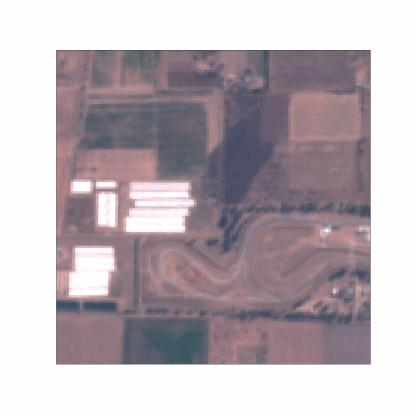silobolsa: (128, 178, 192, 192), (126, 199, 197, 208), (123, 226, 189, 235), (129, 189, 193, 198), (126, 207, 190, 216), (109, 190, 122, 229), (124, 216, 189, 223), (67, 177, 93, 194), (75, 261, 118, 271), (69, 270, 110, 280), (96, 191, 107, 226), (66, 280, 110, 288), (67, 290, 111, 298), (74, 254, 115, 262), (72, 248, 119, 254), (96, 179, 119, 189)
